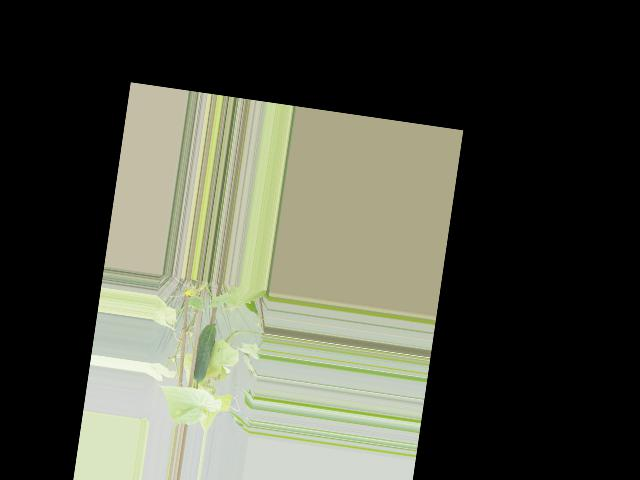cucumber: (192, 321, 217, 383)
